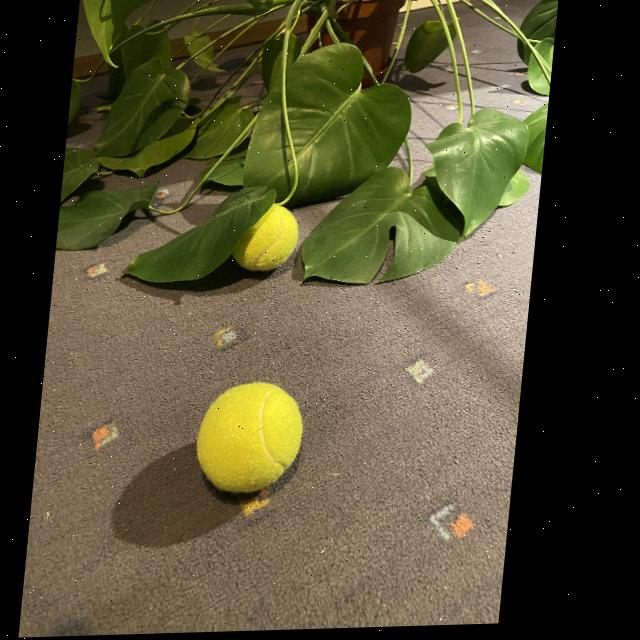Tennisball: (196, 383, 303, 493), (232, 204, 298, 271)
